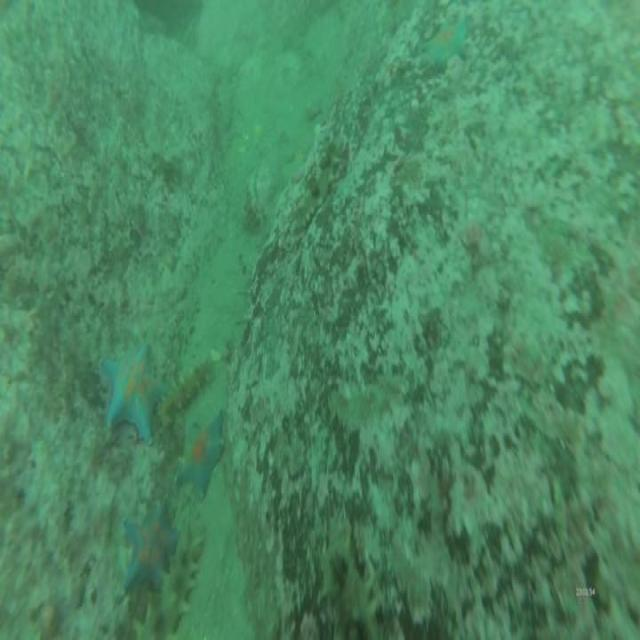holothurian: (164, 522, 200, 624), (162, 358, 212, 416), (329, 386, 385, 428), (218, 76, 234, 126)
starfish: (105, 343, 166, 442), (124, 509, 177, 586), (185, 412, 225, 494), (429, 27, 467, 62)
